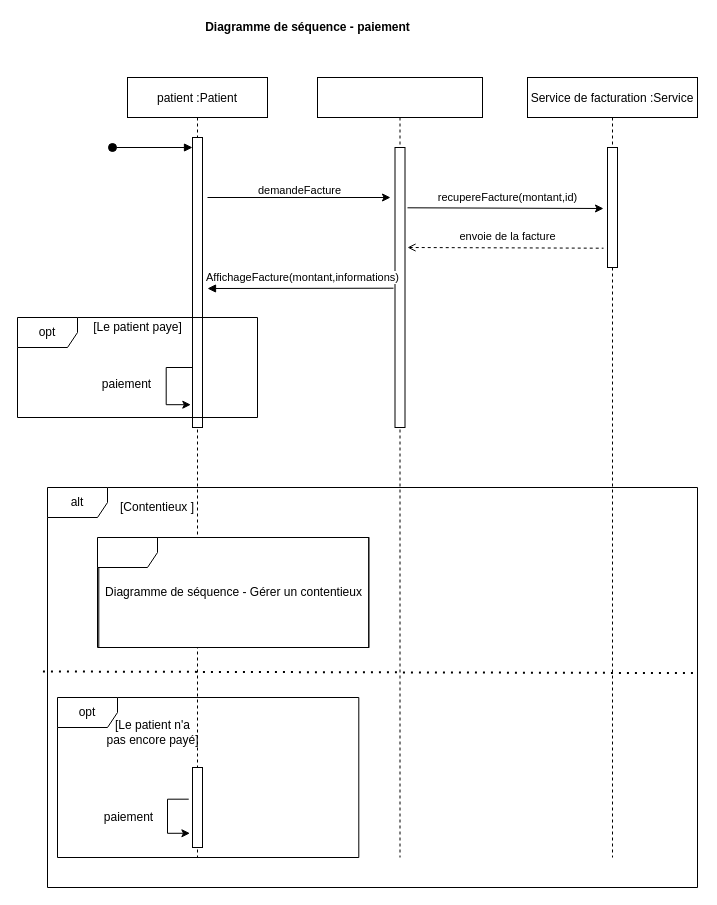
Some shapes in this 717 by 905 pixel diagram are drawn without their labels. Here are the shapes that lost their labels. From the top down, the box of each, then its label:
(316, 76, 482, 858): portail de paiement :Interface
(96, 536, 369, 648): ref
